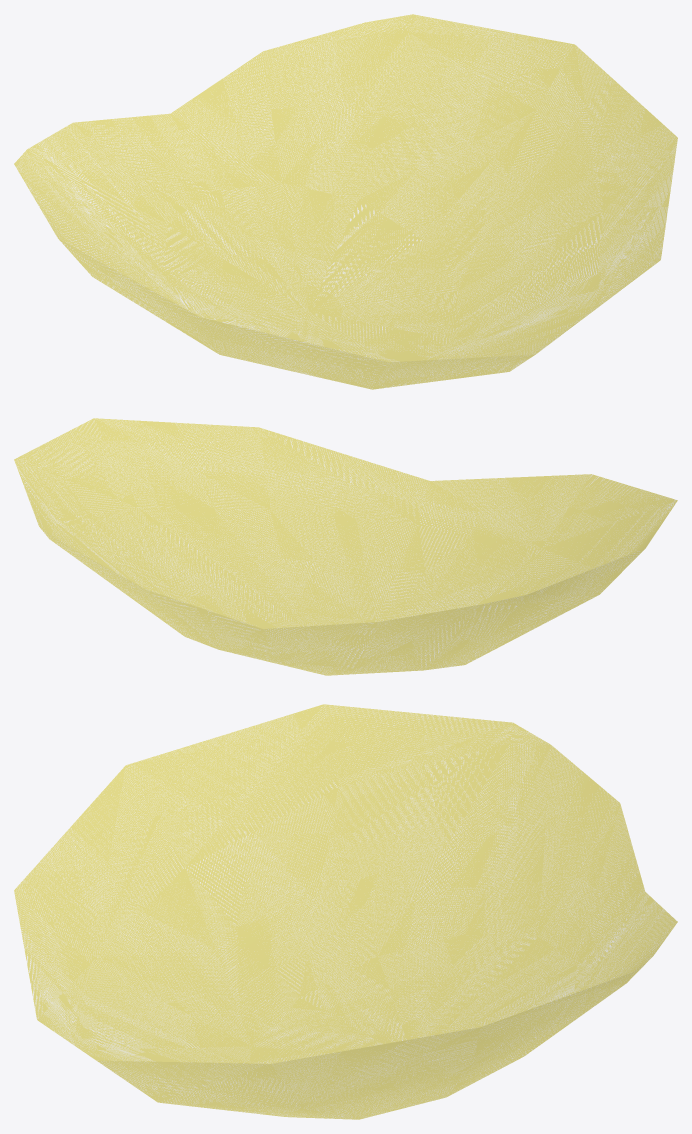
File: original-37.obj
3 renders of one model, top to bottom at view 1: azimuth 30°, elevation 25°; view 2: azimuth 150°, elevation 25°; view 3: azimuth 270°, elevation 25°, orthographic. The views are drawn at different scales.
Visible parts, largest first — view 1: Group7/mesh11/mesh11-geometry#mesh11-geometry; view 2: Group7/mesh11/mesh11-geometry#mesh11-geometry; view 3: Group7/mesh11/mesh11-geometry#mesh11-geometry.
Part boxes in pixels (bbox=[...]): Group7/mesh11/mesh11-geometry#mesh11-geometry: bbox=[14, 14, 677, 389]; Group7/mesh11/mesh11-geometry#mesh11-geometry: bbox=[14, 418, 677, 675]; Group7/mesh11/mesh11-geometry#mesh11-geometry: bbox=[14, 704, 677, 1119].
Size of the model in its own units: 0.0189 by 0.00576 by 0.0162.
